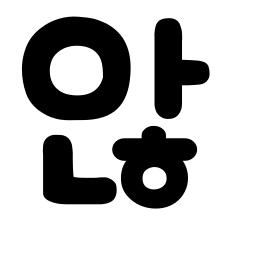Gaji: (145, 51, 195, 99)
